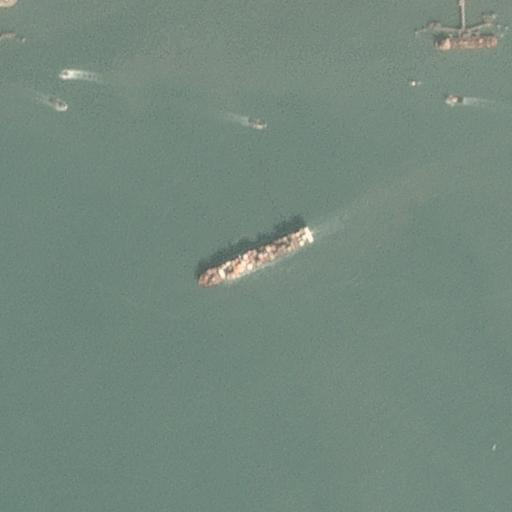ship: (196, 226, 316, 286), (435, 33, 499, 50), (48, 97, 69, 112), (249, 115, 268, 130), (445, 95, 465, 105), (59, 69, 73, 79), (409, 78, 423, 87)
